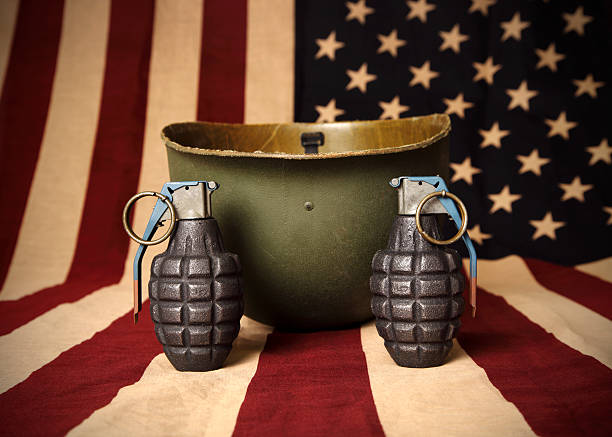e1: (122, 181, 245, 371), (367, 175, 478, 367)
